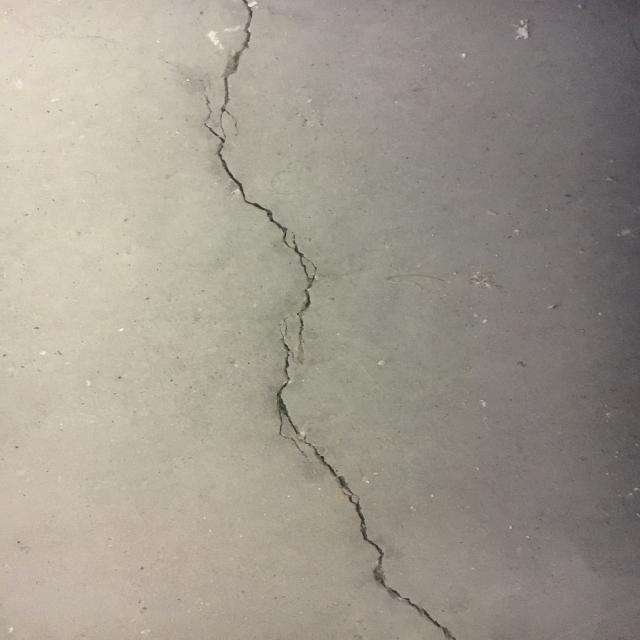SurfaceCrack: (158, 1, 482, 640)
